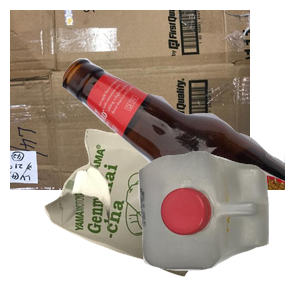cardboard: (10, 10, 250, 190)
glass: (60, 56, 300, 236)
plastic: (136, 149, 300, 300)
trash: (42, 126, 249, 300)
